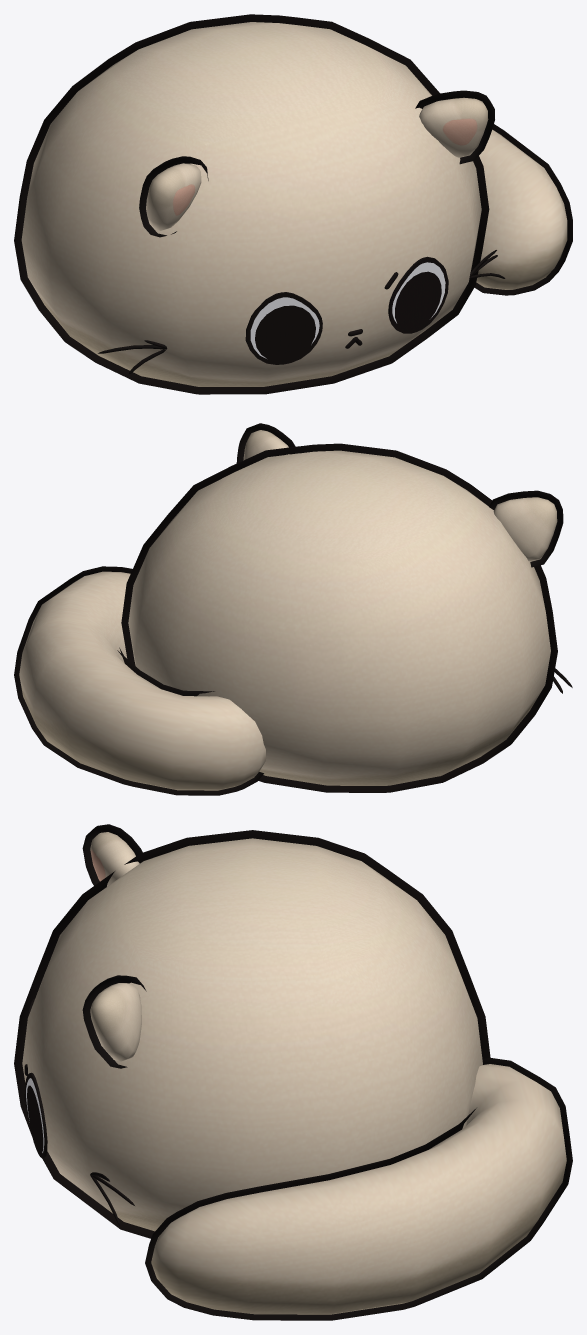
File: cat3.glb
The picture shows the model from 3 angles, top to bottom: view 1: azimuth 30°, elevation 25°; view 2: azimuth 150°, elevation 25°; view 3: azimuth 270°, elevation 25°; orthographic projection. The views are drawn at different scales.
Parts seen in each view (by area): view 1: Cat.006, Cat.007, Cube.025, Cube.023, ear_left.004, Cube.021; view 2: Cat.006, Cube.025, Cat.007, ear_left.004; view 3: Cat.006, Cube.025, Cat.007, ear_left.004, Cube.023.
Boxes of the visible parts, left/top/right/bottom form: Cat.006: left=21, top=22, right=481, bottom=386; Cat.007: left=14, top=14, right=572, bottom=394; Cube.025: left=476, top=129, right=567, bottom=289; Cube.023: left=245, top=256, right=448, bottom=364; ear_left.004: left=146, top=97, right=488, bottom=230; Cube.021: left=98, top=340, right=167, bottom=374; Cat.006: left=128, top=450, right=550, bottom=785; Cube.025: left=19, top=571, right=266, bottom=790; Cat.007: left=14, top=423, right=563, bottom=795; ear_left.004: left=243, top=430, right=557, bottom=561; Cat.006: left=22, top=838, right=482, bottom=1231; Cube.025: left=151, top=1064, right=566, bottom=1314; Cat.007: left=14, top=824, right=572, bottom=1320; ear_left.004: left=90, top=832, right=141, bottom=1061; Cube.023: left=25, top=998, right=47, bottom=1158.
Size of the model in its own units: 1.04 by 0.5856 by 0.9026.
1 material, 1 textured.
